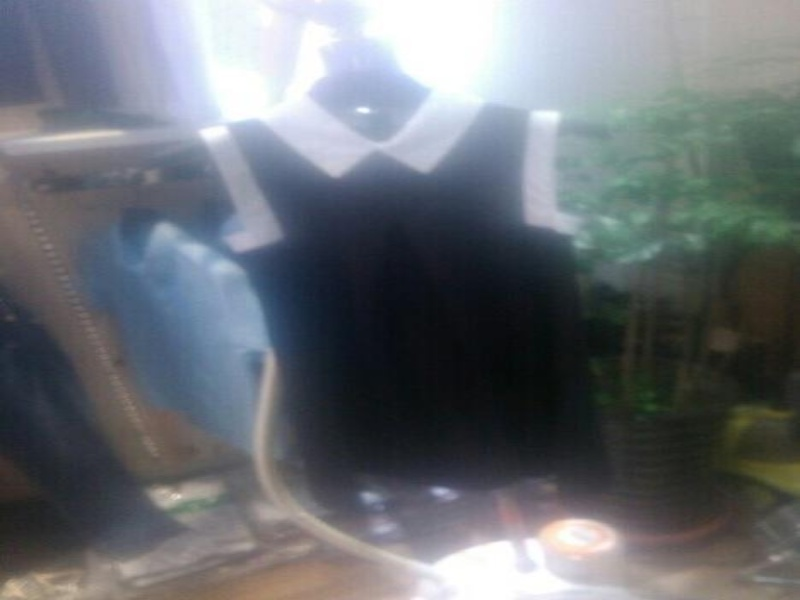short_sleeved_dress: (185, 72, 626, 517)
